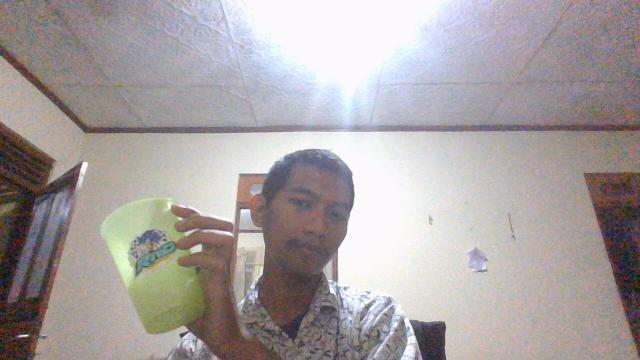botol-hijau: (96, 190, 209, 341)
